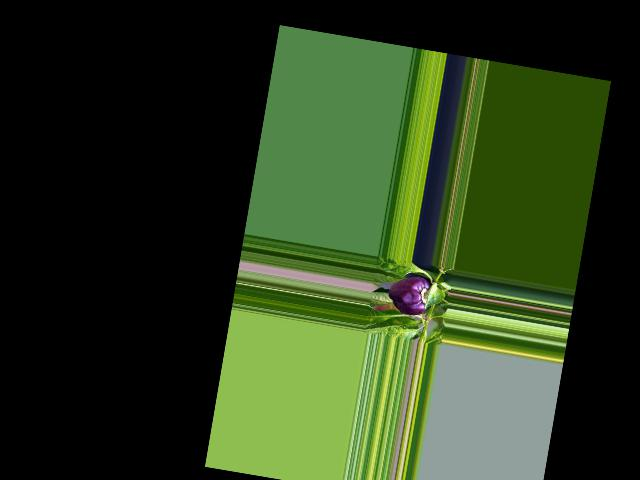bell_pepper: (383, 272, 436, 319)
